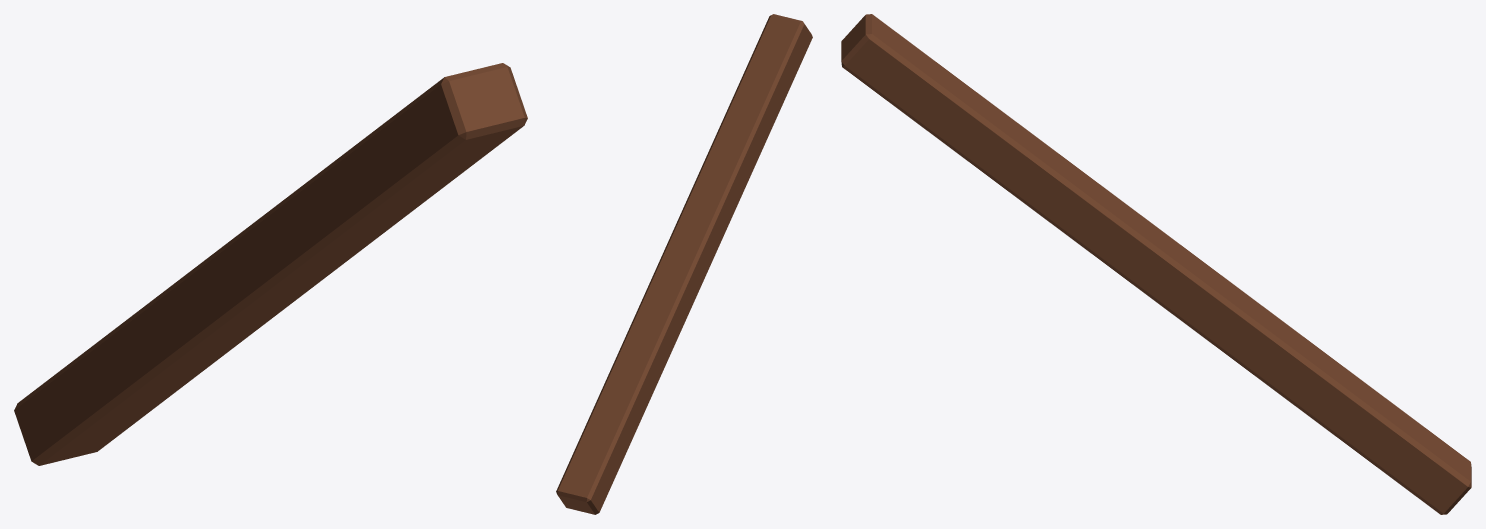
Rendered from SM_Menu_WallBrace_05.fbx.
3 renders of one model, left to right at view 1: azimuth 30°, elevation 25°; view 2: azimuth 150°, elevation 25°; view 3: azimuth 270°, elevation 25°, orthographic. The views are drawn at different scales.
Visible parts, largest first — view 1: SM_Menu_WallBrace_05; view 2: SM_Menu_WallBrace_05; view 3: SM_Menu_WallBrace_05.
Boxes of the visible parts, <box> form: SM_Menu_WallBrace_05: <box>14,63,527,465</box>; SM_Menu_WallBrace_05: <box>556,14,812,514</box>; SM_Menu_WallBrace_05: <box>841,14,1471,514</box>.
Size of the model in its own units: 25 by 280 by 236.
